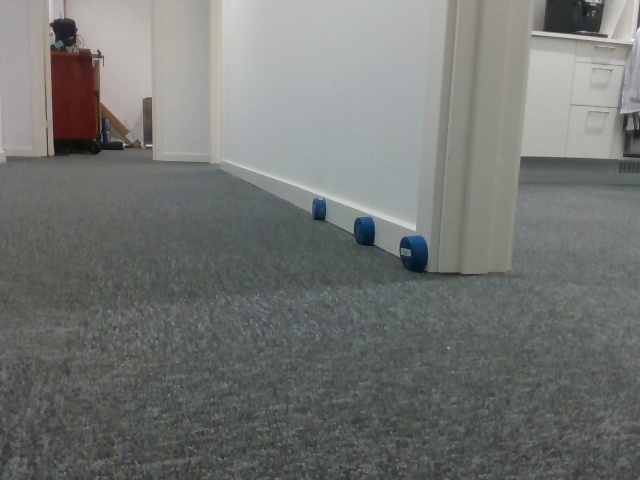alfa: (398, 232, 430, 273), (353, 213, 376, 249), (310, 194, 329, 222)
